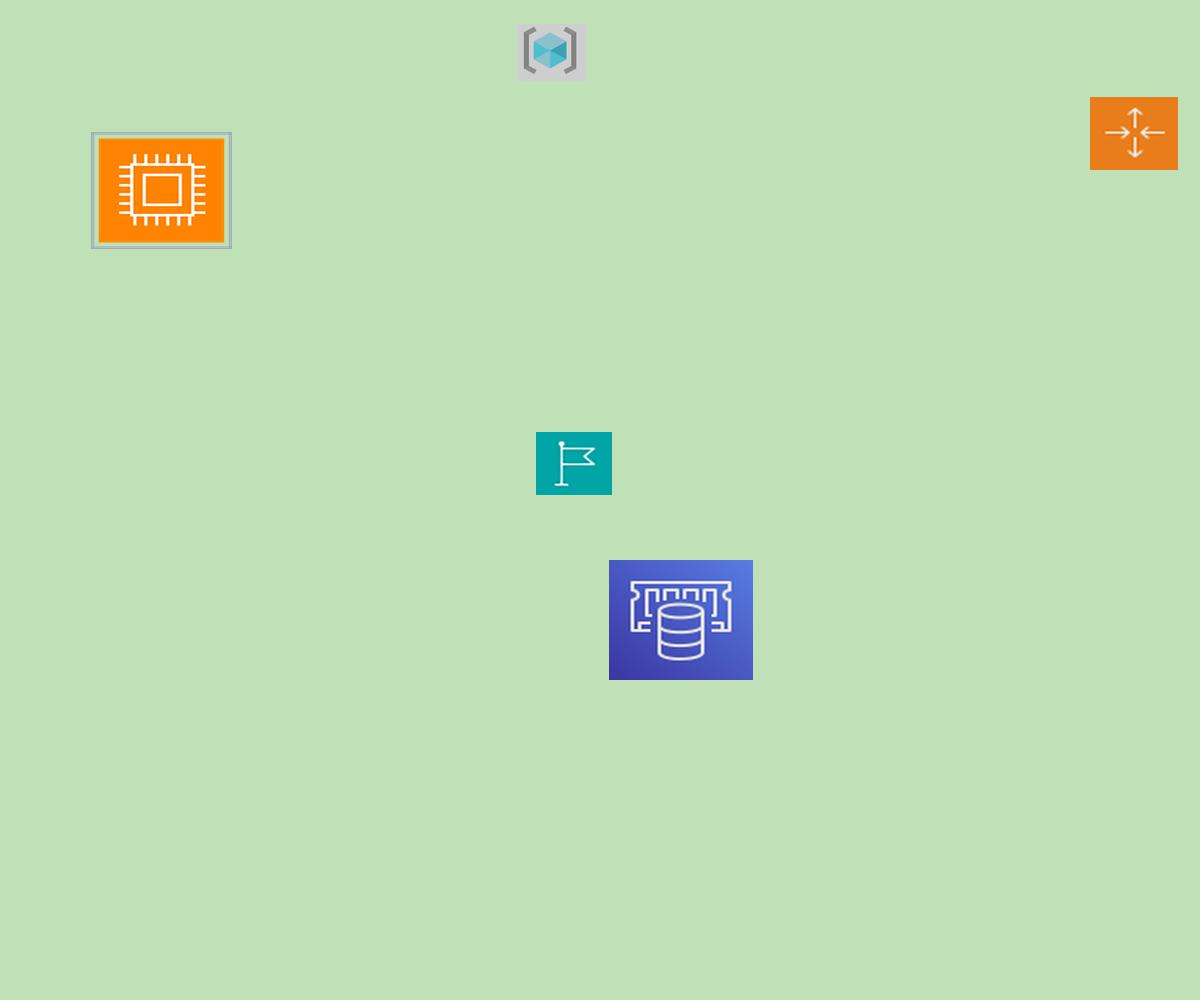AWS-Category_Compute: (91, 132, 232, 249)
AWS-ElastiCache: (609, 560, 753, 680)
AWS-Region: (536, 432, 612, 495)
AWS-Scaling-group: (1090, 97, 1178, 170)
Azure_resource_group: (517, 24, 586, 81)
